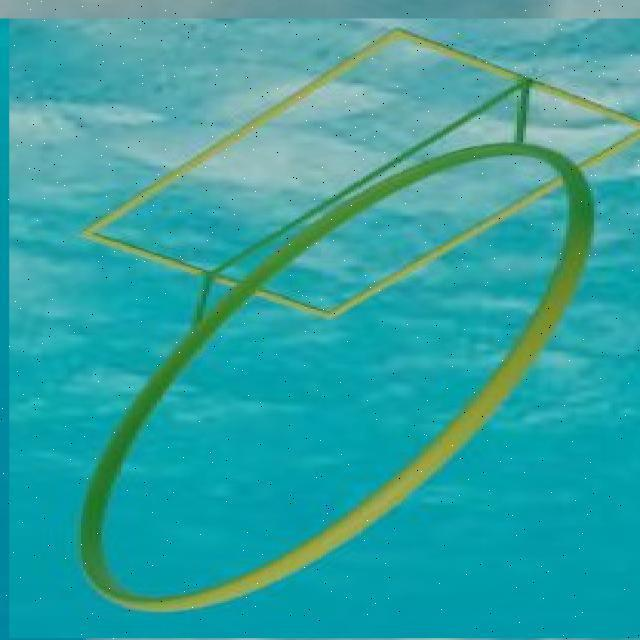Circle: (71, 132, 604, 614)
